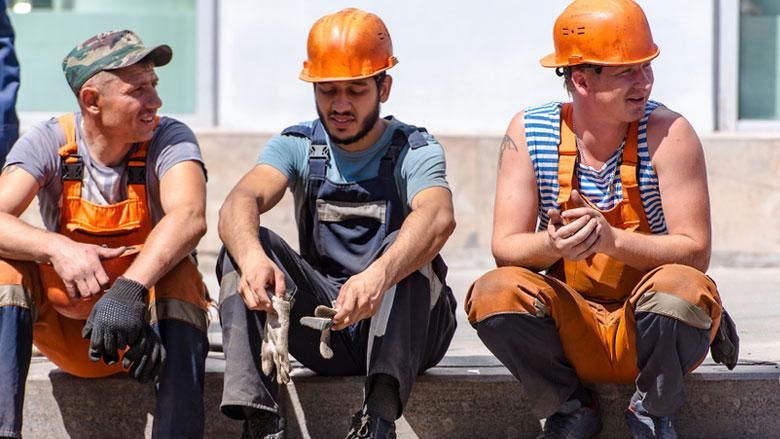helmet: (539, 1, 663, 71), (298, 8, 402, 85)
